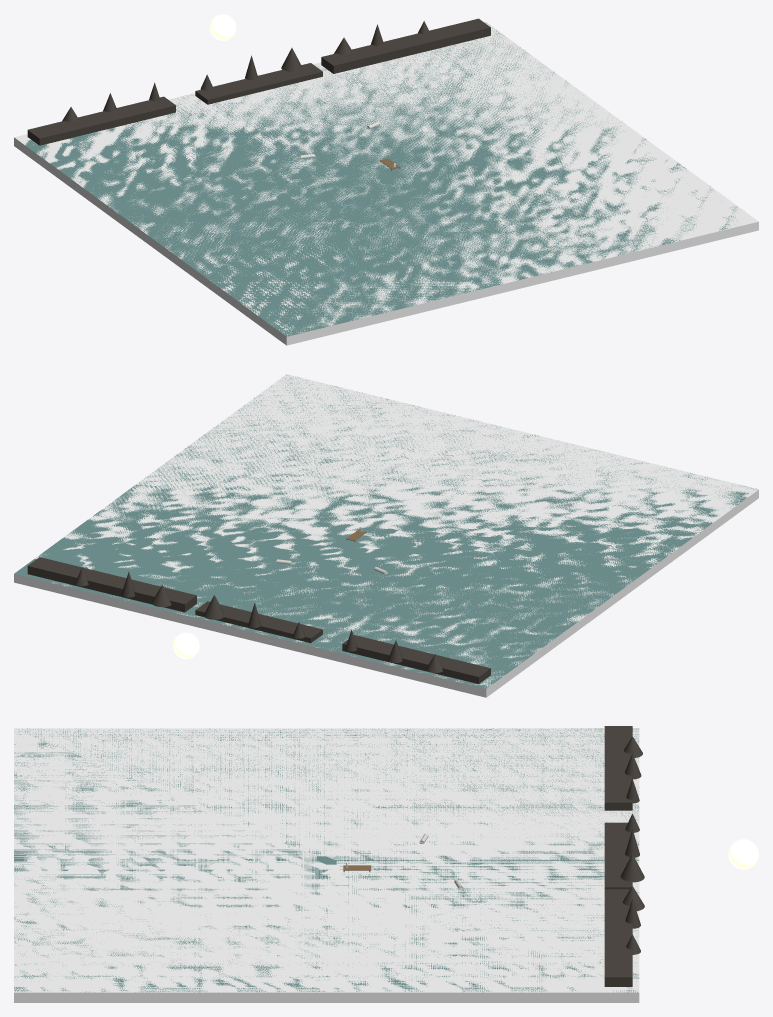
The picture shows the model from 3 angles, top to bottom: view 1: azimuth 30°, elevation 25°; view 2: azimuth 150°, elevation 25°; view 3: azimuth 270°, elevation 25°; orthographic projection. The views are drawn at different scales.
Parts seen in each view (by area): view 1: ENV_Underwater_Volume, ENV_Water_Surface, ENV_Far_Bank_2, ENV_Far_Bank_0, ENV_Far_Bank_1, ENV_Sun_Disc; view 2: ENV_Underwater_Volume, ENV_Water_Surface, ENV_Far_Bank_2, ENV_Far_Bank_0, ENV_Far_Bank_1, ENV_Sun_Disc; view 3: ENV_Underwater_Volume, ENV_Water_Surface, ENV_Far_Bank_2, ENV_Far_Bank_0, ENV_Far_Bank_1, ENV_Sun_Disc.
Boxes of the visible parts, left/top/right/bottom form: ENV_Underwater_Volume: left=14, top=22, right=758, bottom=345; ENV_Water_Surface: left=25, top=22, right=738, bottom=336; ENV_Far_Bank_2: left=321, top=18, right=490, bottom=73; ENV_Far_Bank_0: left=27, top=96, right=175, bottom=145; ENV_Far_Bank_1: left=195, top=63, right=322, bottom=104; ENV_Sun_Disc: left=209, top=14, right=236, bottom=40; ENV_Underwater_Volume: left=14, top=374, right=758, bottom=697; ENV_Water_Surface: left=14, top=374, right=757, bottom=688; ENV_Far_Bank_2: left=27, top=557, right=196, bottom=612; ENV_Far_Bank_0: left=342, top=635, right=490, bottom=684; ENV_Far_Bank_1: left=195, top=601, right=322, bottom=643; ENV_Sun_Disc: left=173, top=632, right=199, bottom=659; ENV_Underwater_Volume: left=14, top=728, right=639, bottom=1002; ENV_Water_Surface: left=14, top=728, right=639, bottom=992; ENV_Far_Bank_2: left=604, top=889, right=632, bottom=986; ENV_Far_Bank_0: left=604, top=726, right=632, bottom=810; ENV_Far_Bank_1: left=604, top=822, right=632, bottom=889; ENV_Sun_Disc: left=728, top=839, right=758, bottom=869.
Size of the model in its own units: 90 by 6.97 by 107.
